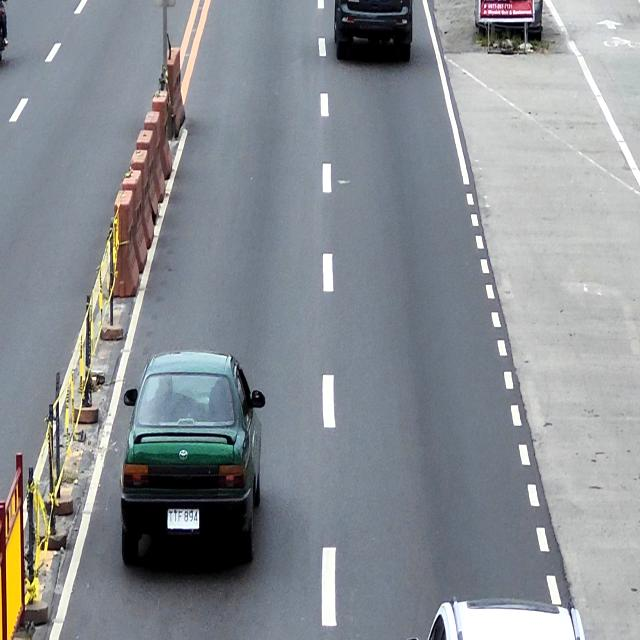Car: (120, 350, 266, 566)
License-Plate: (168, 508, 200, 528)
